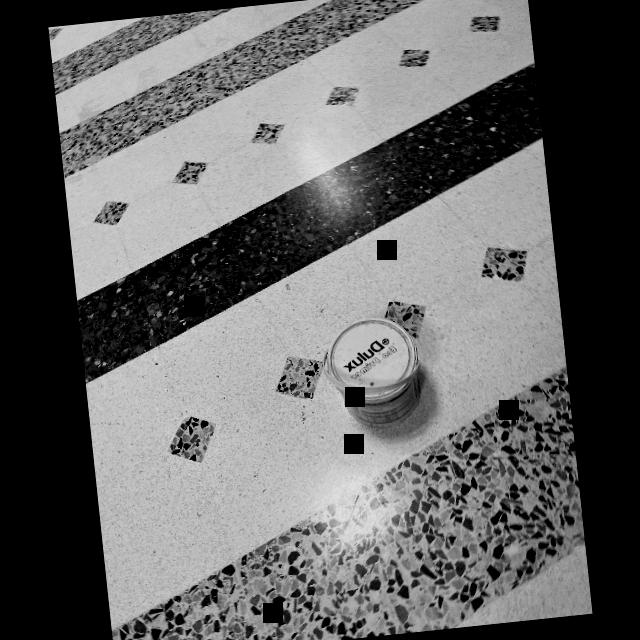paint_bucket: (326, 307, 434, 429)
